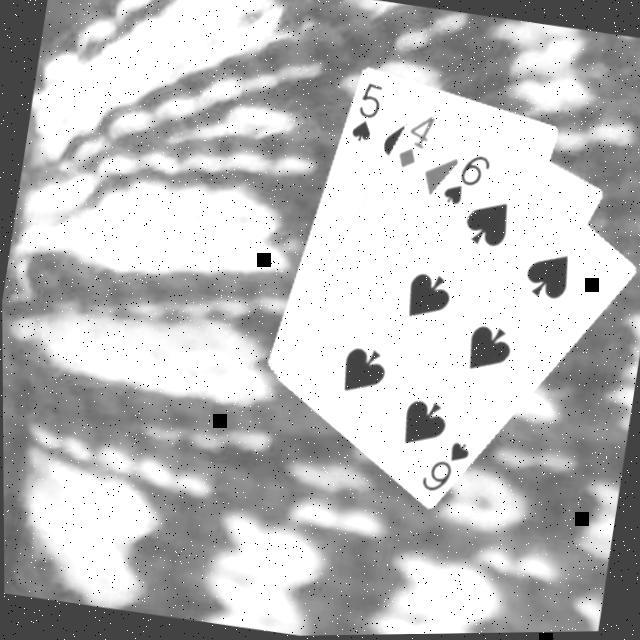4D: (390, 106, 437, 174)
5S: (344, 76, 384, 146)
6S: (413, 431, 472, 499), (436, 144, 493, 212)
